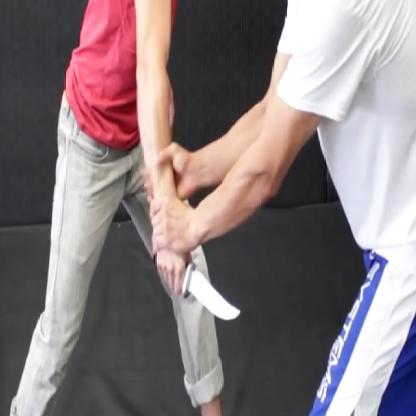knife: (148, 250, 245, 332)
